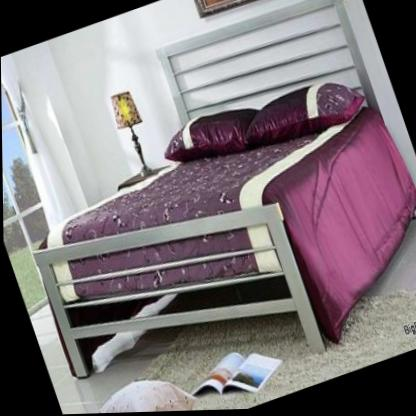Bed: (32, 0, 416, 382)
Carpet: (279, 293, 416, 399)
